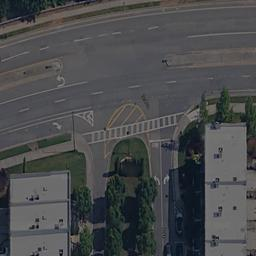Chevron: (71, 113, 96, 125)
Crosswalk: (84, 110, 184, 145)
Left Turn Arrow: (153, 175, 161, 184)
Right Turn Arrow: (15, 76, 252, 115), (53, 123, 63, 131), (163, 172, 169, 184)
Solid White Line: (1, 80, 89, 103), (159, 141, 164, 253), (187, 31, 256, 38)
Stopline: (150, 138, 172, 141)
U Turn Arrow: (54, 75, 67, 85)
White Dashed Line: (1, 24, 160, 64)
